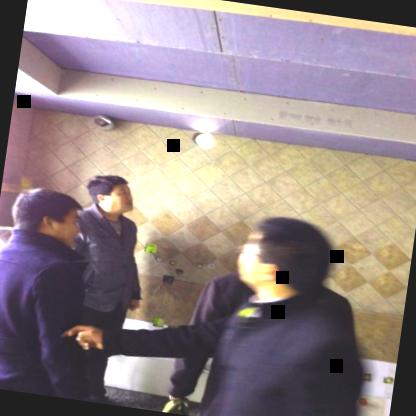head: (224, 204, 346, 308), (6, 182, 94, 250), (89, 170, 140, 220)
